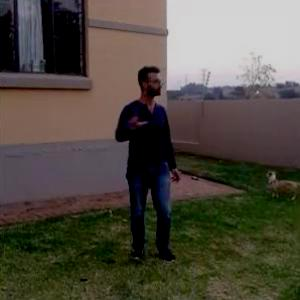land_hand: (120, 105, 148, 138)
